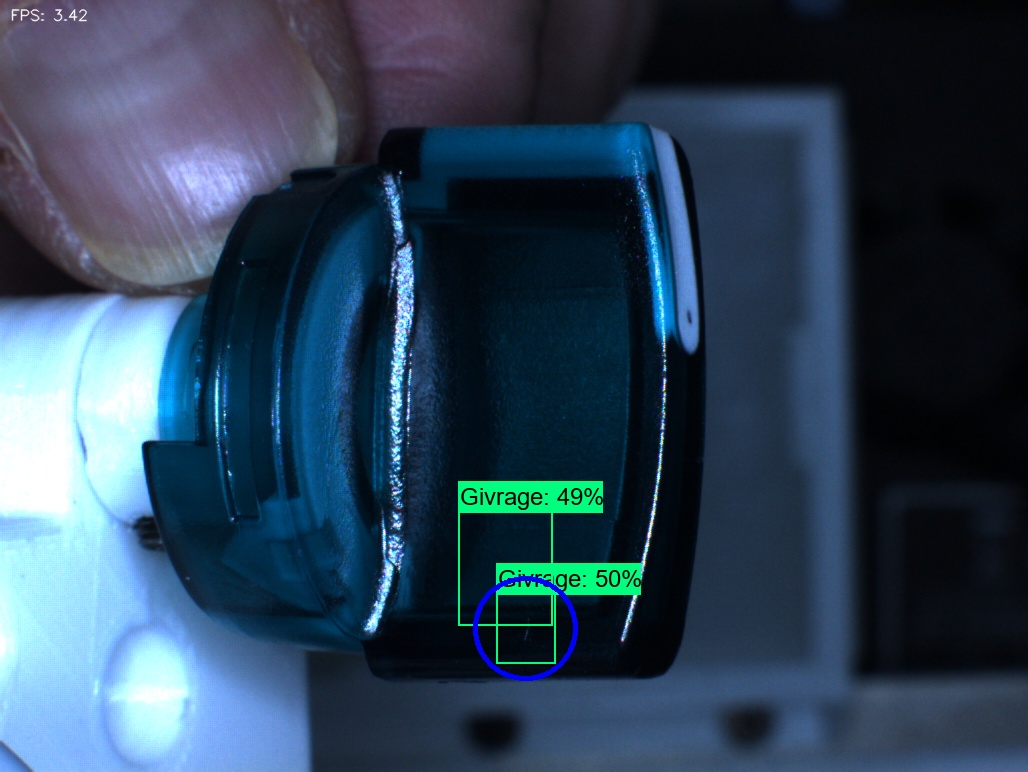PointNoir: (646, 263, 738, 359)
